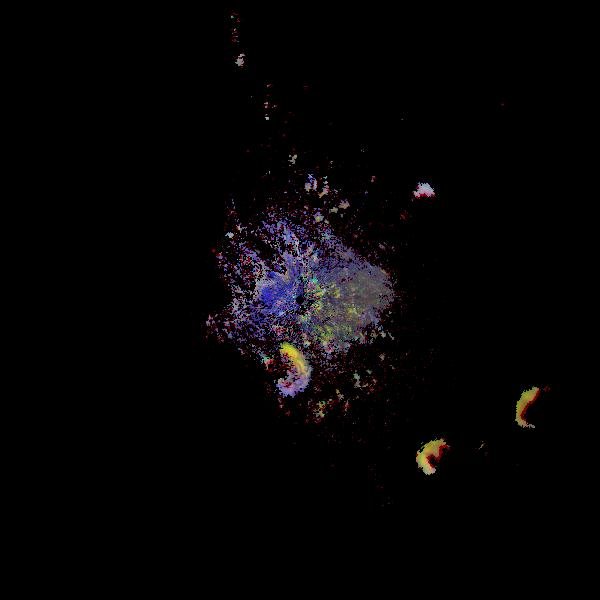roost: (504, 365, 600, 473), (252, 333, 327, 408), (411, 430, 480, 499), (396, 181, 462, 247)
